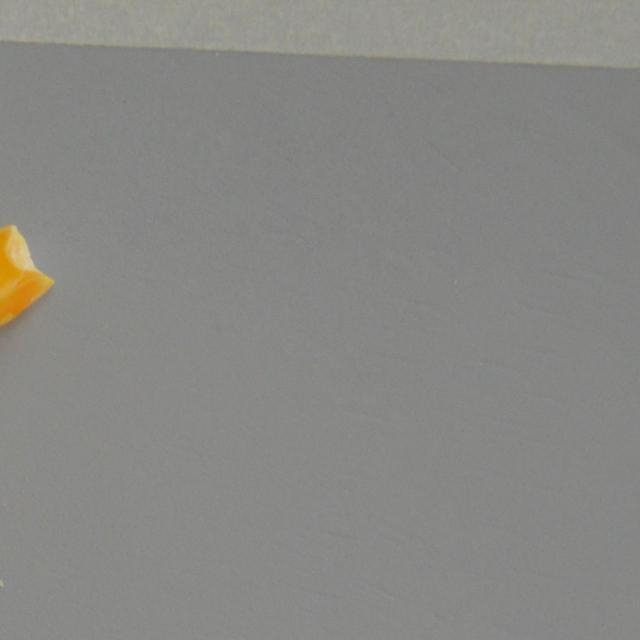no_desgerminado: (0, 218, 58, 340)
